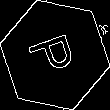P_E: (26, 29, 84, 81)
